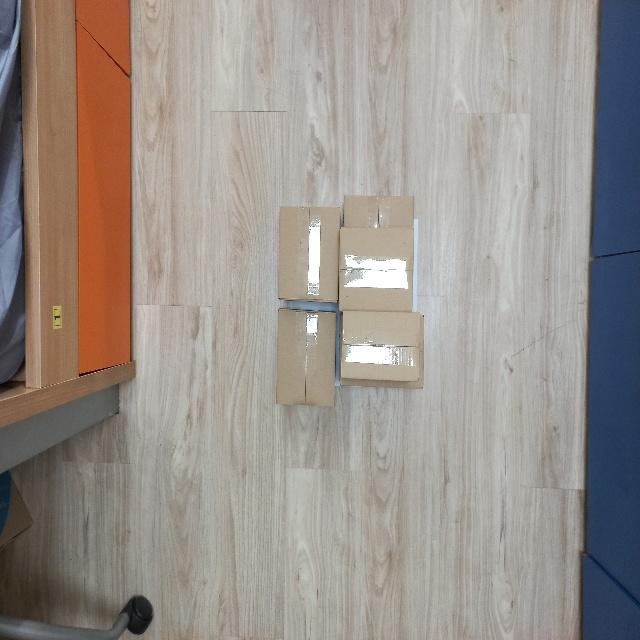box: (272, 306, 341, 414), (336, 230, 417, 312), (275, 205, 340, 306), (338, 312, 424, 386)
